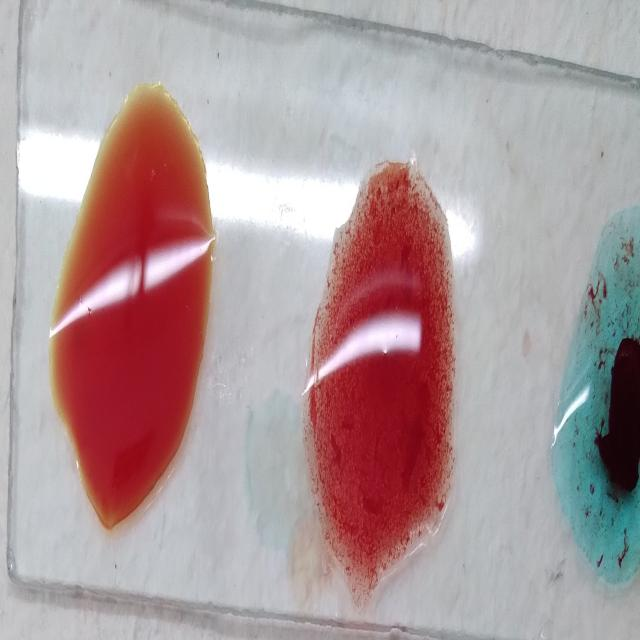A: (561, 216, 640, 587)
D: (318, 164, 458, 586)
